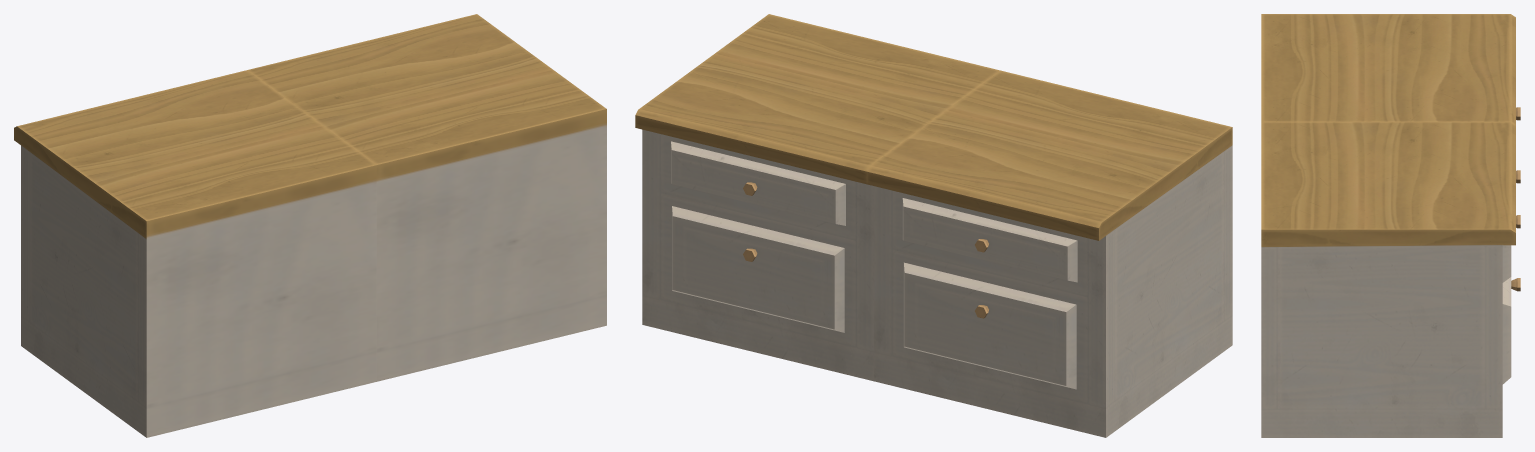
The model's file is WarehouseManager_21.obj.
3 renders of one model, left to right at view 1: azimuth 30°, elevation 25°; view 2: azimuth 150°, elevation 25°; view 3: azimuth 270°, elevation 25°, orthographic. The views are drawn at different scales.
Size of the model in its own units: 2 by 0.9 by 1.02.
2 materials, 2 textured.
